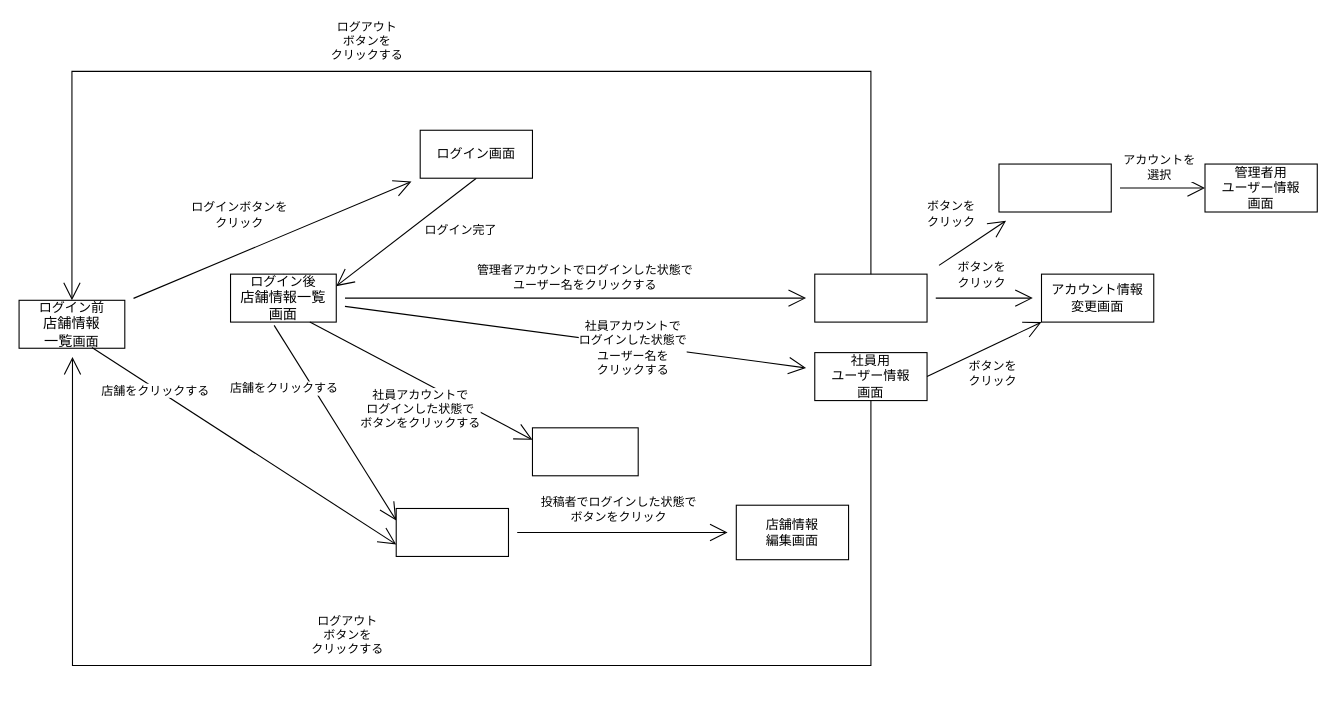
The diagram is 1336 pixels wide and 702 high, and some of its shapes have lost their labels. The centre of each missing label's shape, as x and y in pixels:
アカウント一覧 画面: pixel 1054 187
店舗情報 登録画面: pixel 584 451
店舗情報 詳細画面: pixel 451 531
管理者メニュー 画面: pixel 870 297
